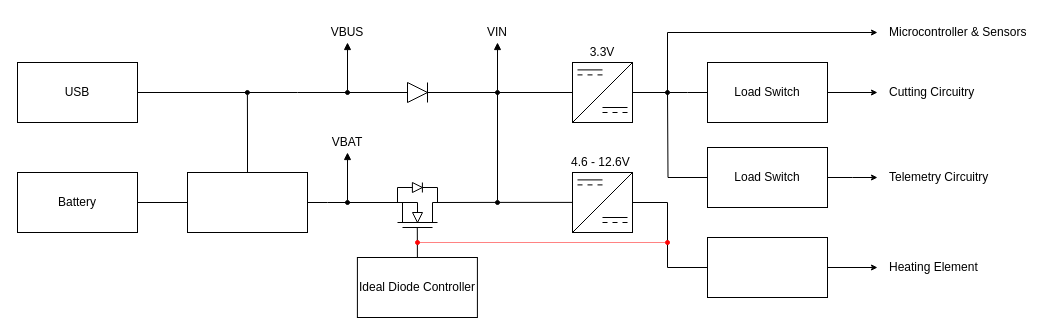
The diagram is 1045 pixels wide and 335 high, and some of its shapes have lost their labels. Each missing label, with the centre of its shape:
Battery Management & Charging: the point at 247,202
High Power Switch: the point at 767,267
